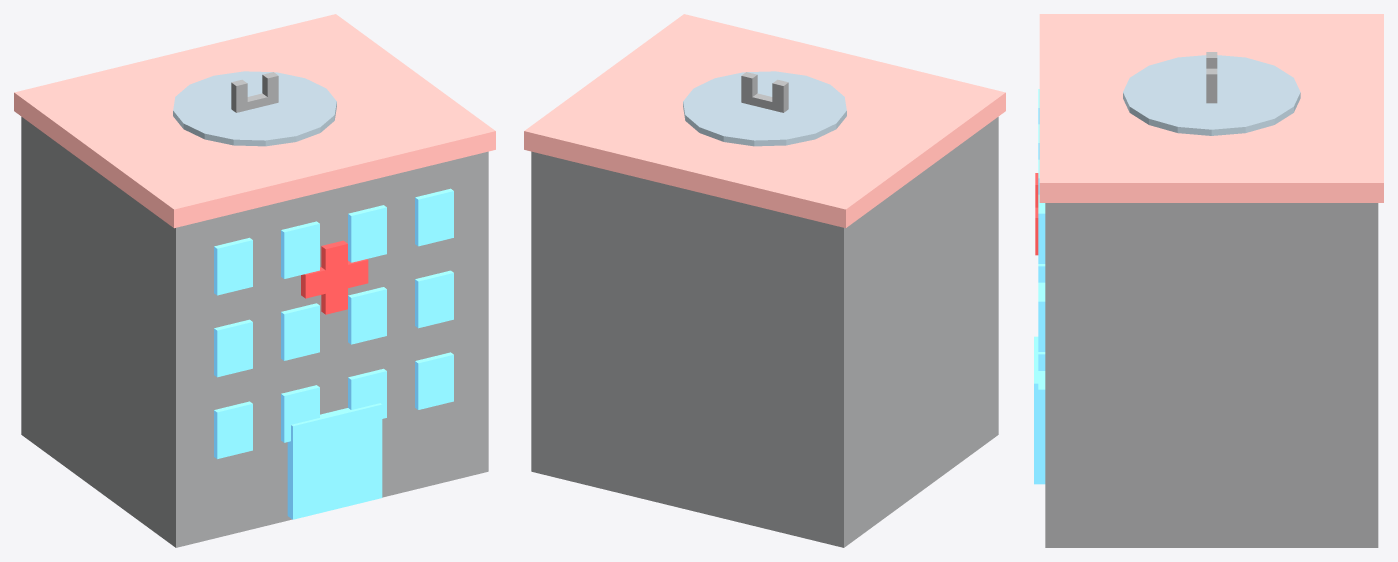
Rendered from hospital.glb.
The picture shows the model from 3 angles, left to right: view 1: azimuth 30°, elevation 25°; view 2: azimuth 150°, elevation 25°; view 3: azimuth 270°, elevation 25°; orthographic projection. The views are drawn at different scales.
Visible parts, largest first — view 1: hospital; view 2: hospital; view 3: hospital.
Part boxes in pixels (bbox=[...]): hospital: bbox=[14, 14, 495, 547]; hospital: bbox=[524, 14, 1005, 547]; hospital: bbox=[1034, 14, 1383, 547].
Size of the model in its own units: 1.44 by 1.6 by 1.26.
